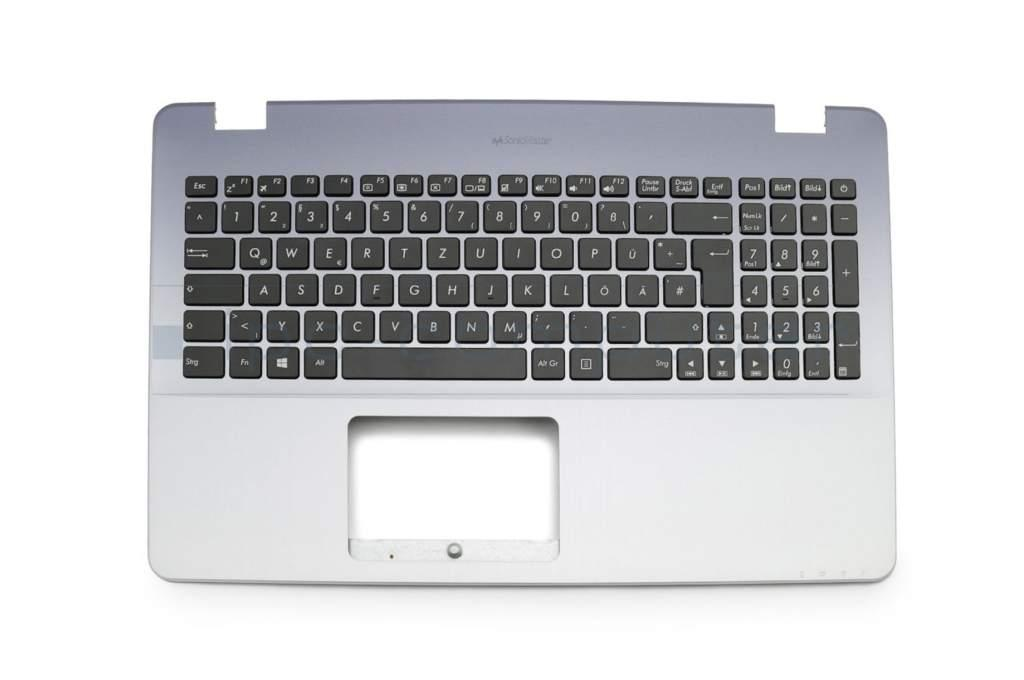0: (557, 199, 592, 232)
1: (220, 199, 253, 232)
2: (256, 199, 290, 231)
3: (293, 199, 327, 231)
4: (331, 199, 365, 231)
5: (368, 199, 403, 231)
6: (406, 199, 441, 231)
7: (444, 198, 478, 231)
8: (482, 199, 517, 232)
9: (519, 199, 554, 231)
a: (247, 271, 281, 305)
accent: (633, 200, 667, 232)
ae: (624, 272, 659, 306)
alt-left: (302, 345, 337, 379)
altgr-right: (529, 345, 566, 380)
b: (415, 308, 451, 342)
c: (340, 308, 375, 342)
caret: (183, 199, 216, 232)
comma: (529, 309, 564, 342)
d: (322, 271, 356, 305)
del: (671, 200, 732, 232)
e: (313, 234, 346, 268)
enter: (689, 235, 732, 304)
f: (359, 272, 394, 305)
g: (397, 271, 432, 305)
h: (434, 271, 469, 306)
hash: (661, 272, 696, 306)
i: (501, 235, 535, 268)
j: (473, 271, 507, 305)
k: (510, 271, 545, 305)
keyboard: (172, 163, 874, 396)
l: (549, 272, 583, 305)
less: (227, 307, 263, 342)
m: (491, 308, 527, 342)
minus: (605, 309, 640, 342)
n: (453, 308, 489, 342)
o: (539, 235, 573, 268)
oe: (587, 272, 621, 305)
p: (577, 235, 611, 268)
plus: (652, 235, 686, 269)
point: (567, 309, 602, 342)
q: (238, 235, 272, 268)
r: (350, 235, 384, 268)
s: (284, 272, 318, 305)
shift-left: (181, 308, 224, 341)
shift-lock: (182, 271, 243, 304)
shift-right: (643, 309, 703, 342)
space: (340, 345, 527, 379)
ss: (595, 199, 629, 231)
strg-left: (180, 343, 225, 377)
strg-right: (606, 345, 675, 379)
t: (388, 235, 421, 268)
tab: (182, 235, 234, 268)
u: (463, 235, 498, 268)
ue: (615, 236, 649, 269)
v: (378, 308, 413, 342)
w: (275, 234, 309, 268)
x: (303, 308, 337, 342)
y: (265, 308, 300, 342)
z: (425, 235, 460, 268)
